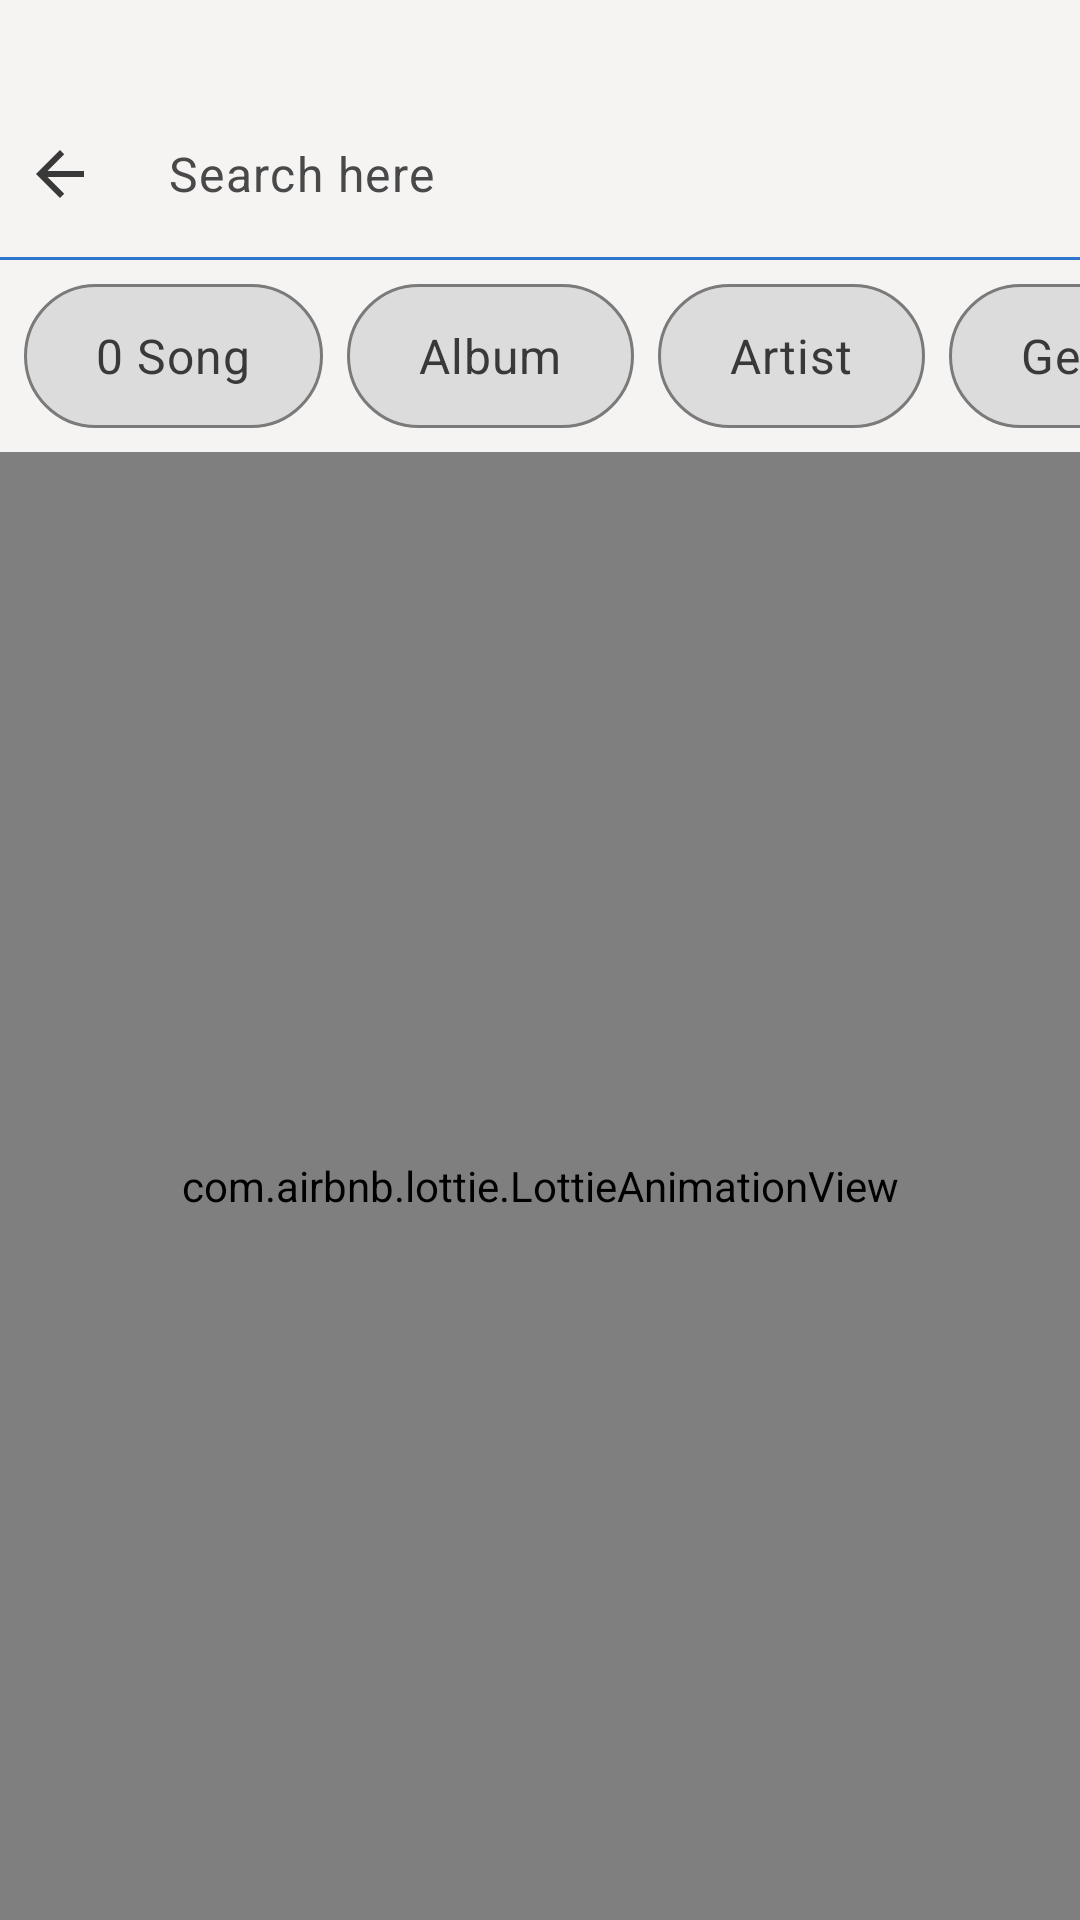

Icon click points for this 1080 × 1920 phone screenshot, format (x,y):
back: (60,174)
